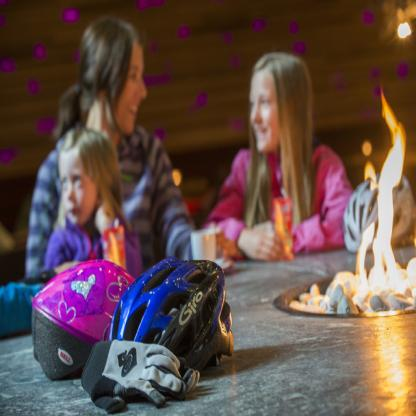Helmet: (107, 275, 233, 385), (29, 255, 135, 381), (342, 169, 416, 251)
